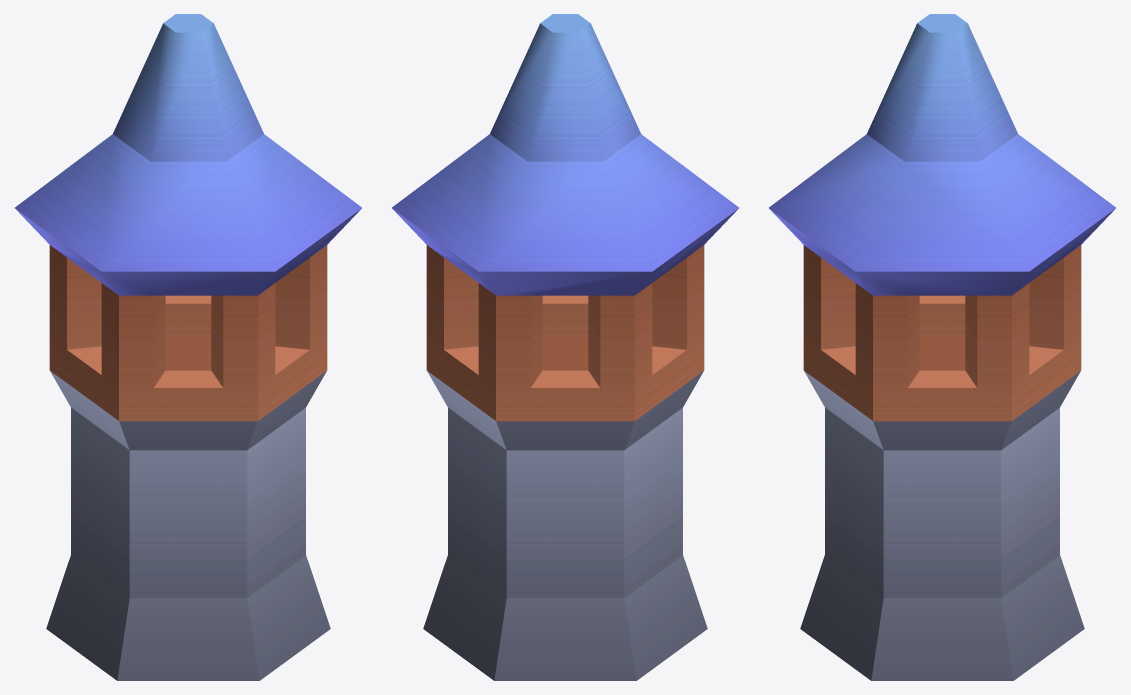
Rendered from unit-tower.glb.
3 views of the same model, side by side, from view 1: azimuth 30°, elevation 25°; view 2: azimuth 150°, elevation 25°; view 3: azimuth 270°, elevation 25° (orthographic).
Visible parts, largest first — view 1: unit-tower; view 2: unit-tower; view 3: unit-tower.
Boxes of the visible parts, box(x1,y1,x2,y2) form: unit-tower: box(15, 14, 361, 680); unit-tower: box(392, 14, 738, 680); unit-tower: box(769, 14, 1115, 680).
Bounding box in the file's own units: 0.3699 × 0.82 × 0.4272.
1 material, 1 textured.
